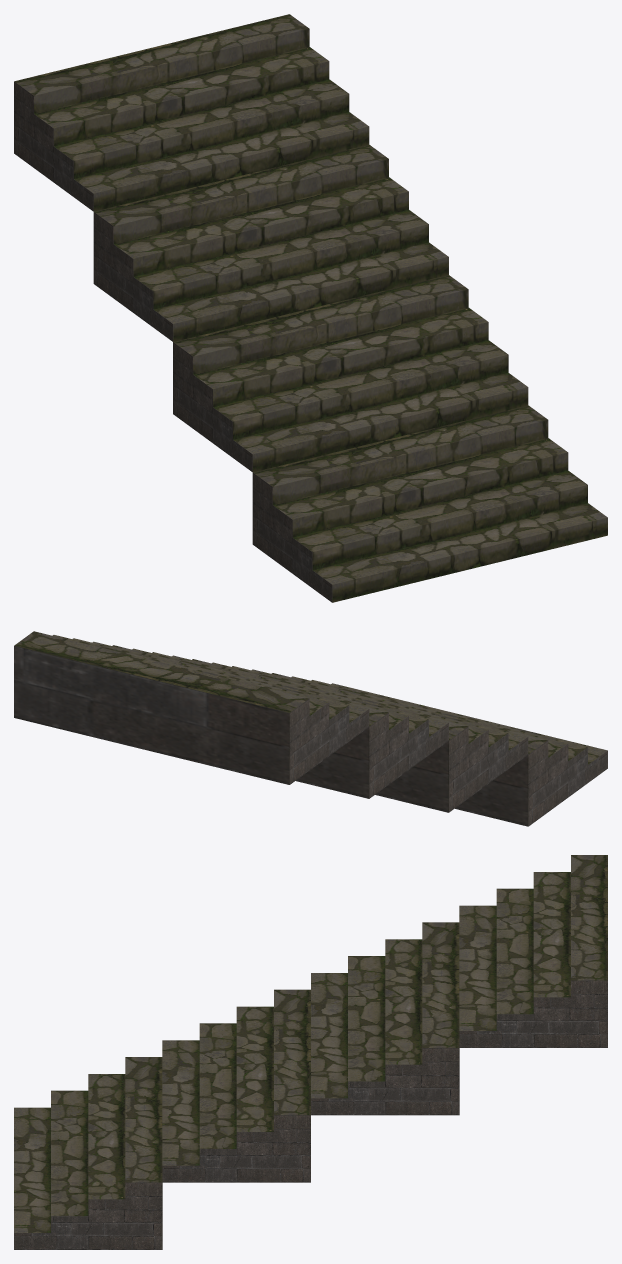
File: stairs_shallow.gltf
3 renders of one model, top to bottom at view 1: azimuth 30°, elevation 25°; view 2: azimuth 150°, elevation 25°; view 3: azimuth 270°, elevation 25°, orthographic. The views are drawn at different scales.
Visible parts, largest first — view 1: Cube.001; view 2: Cube.001; view 3: Cube.001.
Part boxes in pixels (x1,y1,x2,y2): Cube.001: (14, 14, 607, 602); Cube.001: (14, 631, 607, 826); Cube.001: (14, 855, 607, 1249).
Size of the model in its own units: 1 by 1 by 2.
Materials: 1 (1 with a texture image).
